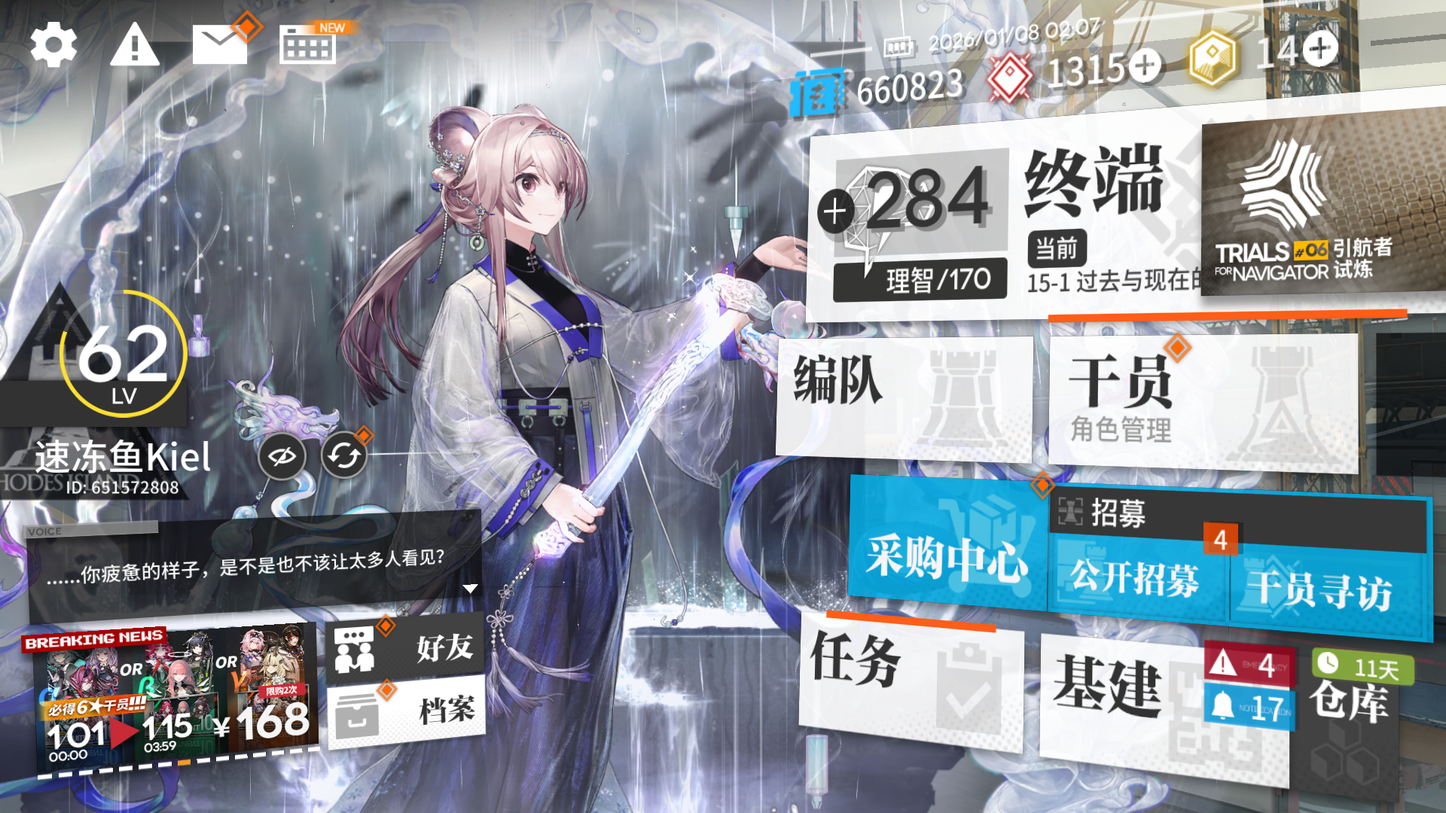home_button: (1011, 131, 1176, 227)
infrastructure_button: (1041, 635, 1237, 772)
